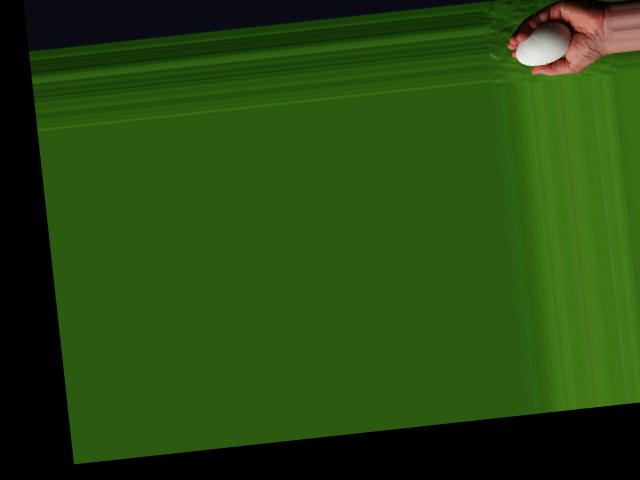egg: (513, 18, 575, 67)
